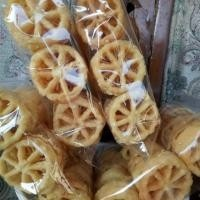kembang_goyang: (32, 44, 89, 100)
